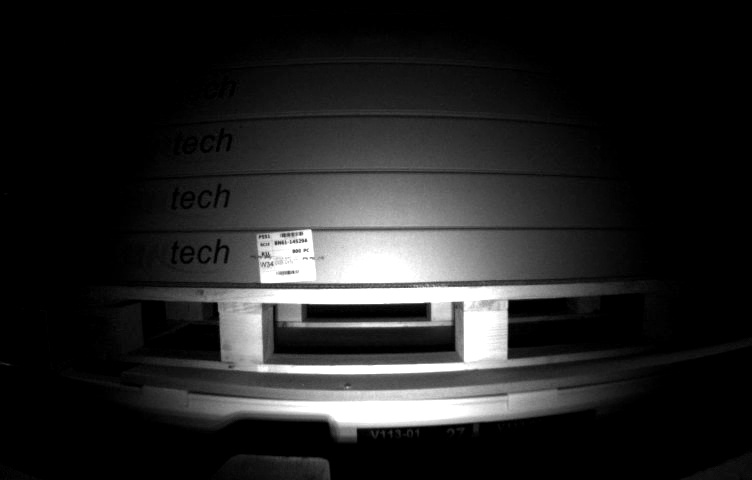True Barcode: (253, 229, 314, 286)
